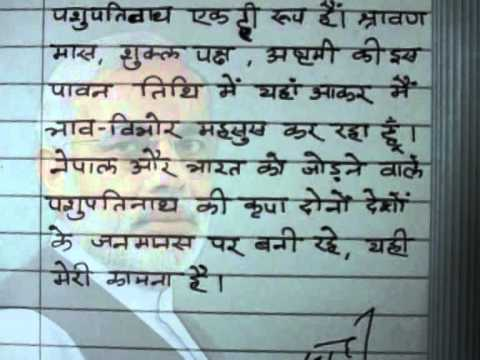text: (43, 189, 181, 221), (52, 1, 175, 33), (44, 111, 183, 139), (298, 150, 370, 182), (88, 232, 197, 253), (265, 38, 341, 68), (118, 40, 187, 73), (193, 118, 268, 148), (48, 148, 119, 178), (135, 73, 205, 103), (355, 7, 429, 32), (298, 185, 353, 218), (103, 267, 176, 291), (308, 80, 375, 106), (365, 226, 415, 259), (128, 146, 176, 178), (185, 155, 251, 178), (253, 226, 305, 255), (47, 258, 95, 289), (359, 188, 413, 215), (238, 193, 292, 219), (378, 153, 425, 182), (252, 76, 303, 102), (47, 81, 115, 100), (278, 118, 325, 143), (191, 41, 235, 66), (47, 42, 99, 63), (351, 36, 384, 69), (196, 186, 231, 217), (185, 5, 232, 28), (328, 119, 373, 143), (206, 232, 246, 259), (236, 2, 263, 41), (270, 2, 308, 29), (310, 225, 344, 255), (378, 116, 404, 153), (44, 222, 75, 253), (185, 262, 213, 294), (255, 152, 288, 178), (387, 44, 422, 68), (215, 73, 243, 100), (387, 73, 413, 101), (315, 1, 339, 28)
